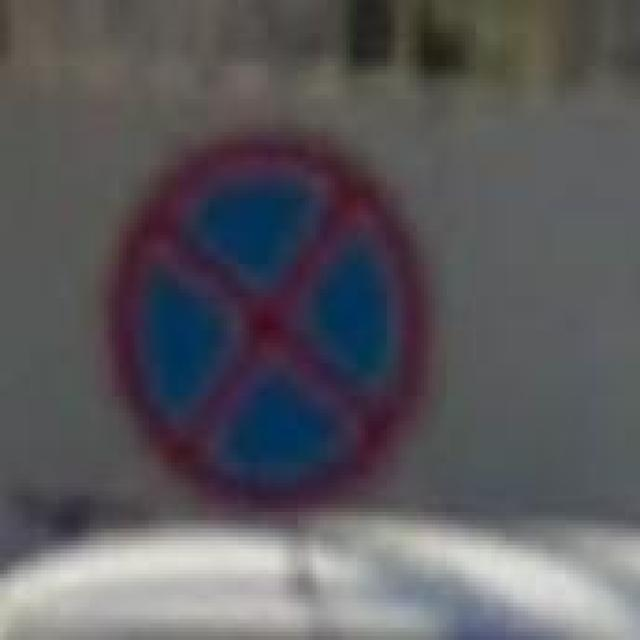Zakaz zatrzymywania sie: (104, 132, 436, 512)
